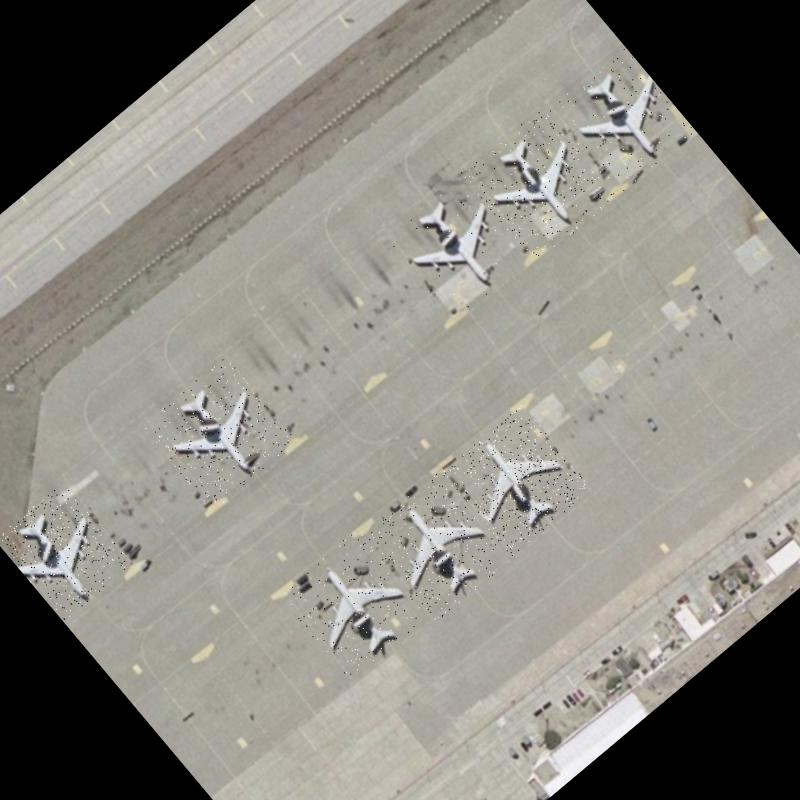A7: (461, 106, 617, 264), (140, 355, 296, 511), (277, 528, 429, 681), (440, 404, 592, 556), (361, 471, 511, 623), (383, 170, 533, 320), (548, 45, 694, 194), (0, 480, 132, 621)
